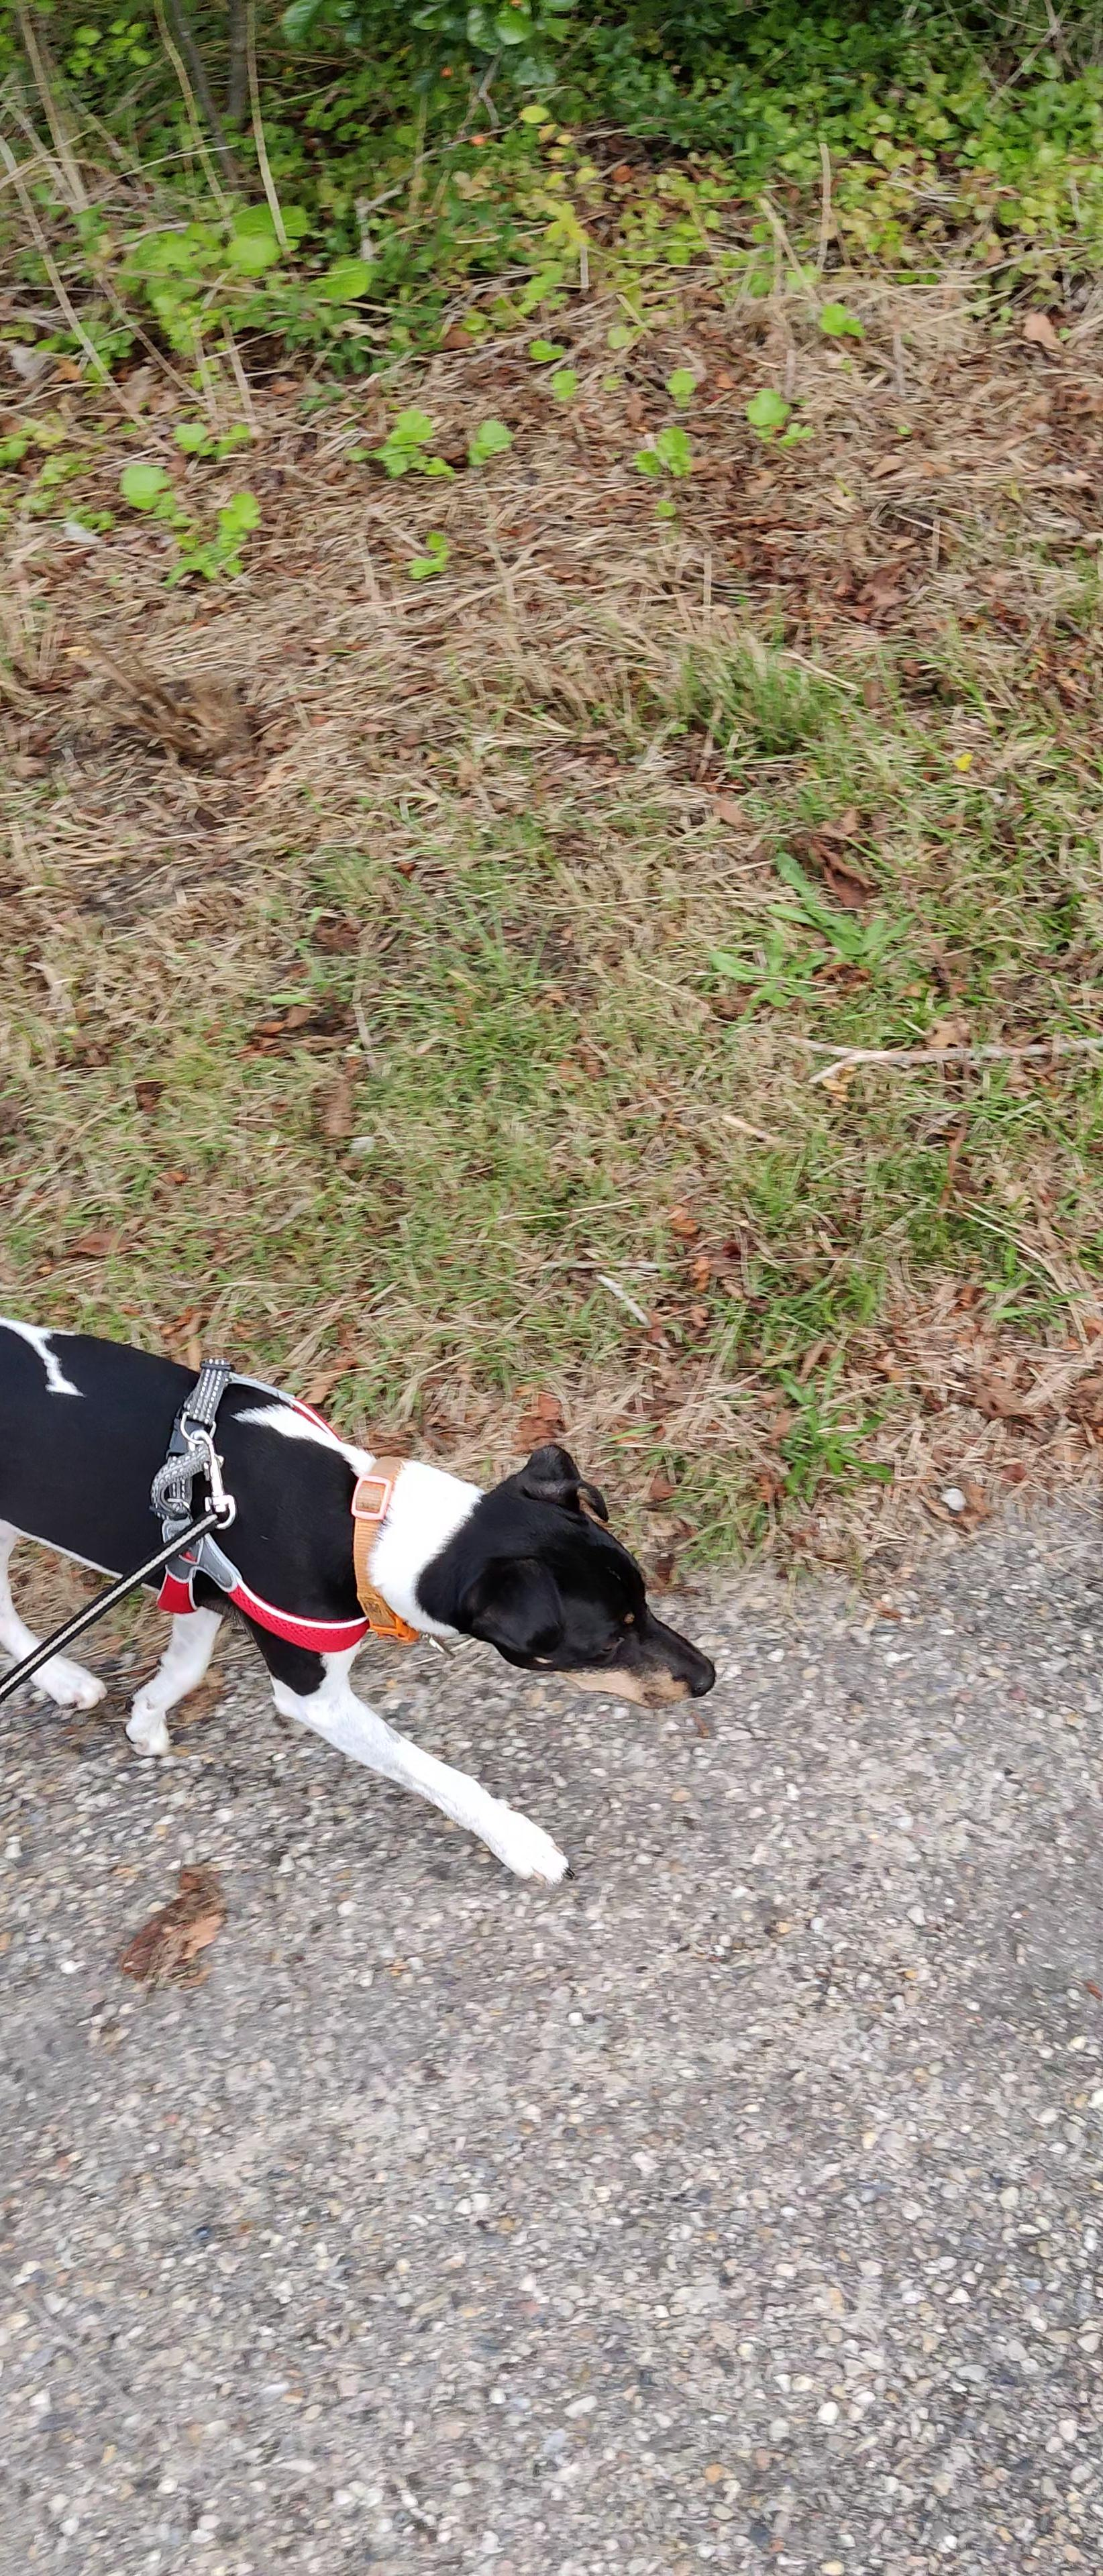Dog: (0, 1285, 735, 1894)
